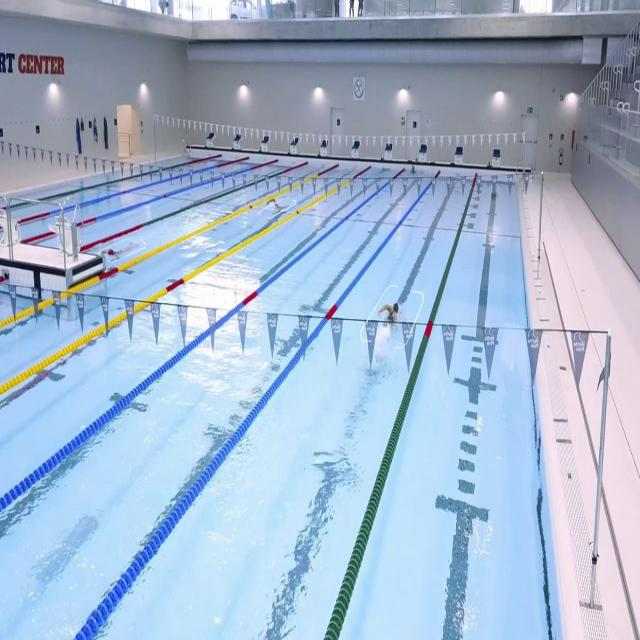Swimming: (101, 238, 143, 264), (377, 302, 403, 334), (266, 197, 292, 216)
